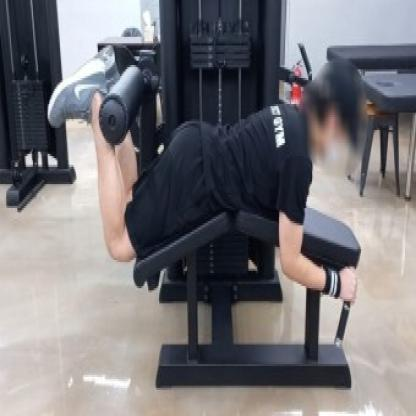reg curl machine: (43, 0, 366, 394)
